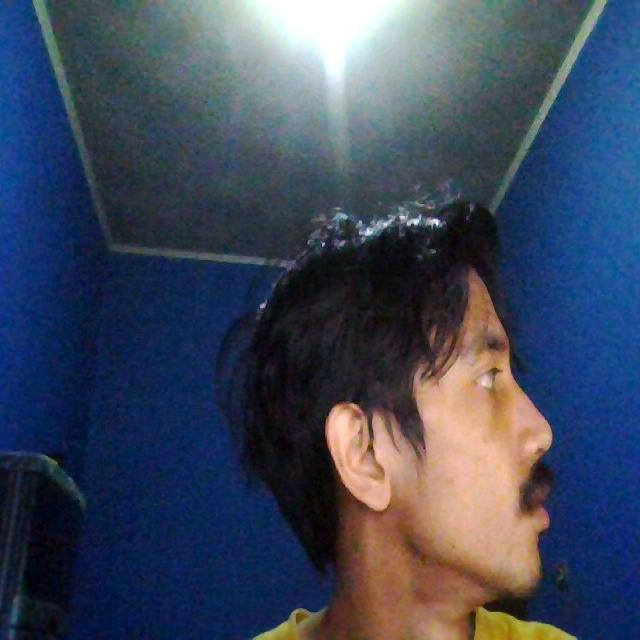melihat kekiri: (202, 178, 578, 610)
